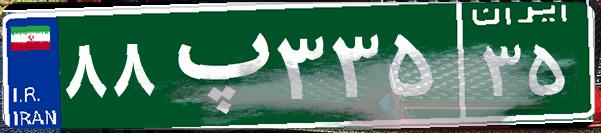3: (273, 28, 330, 110), (330, 28, 385, 110), (475, 38, 525, 113)
5: (385, 28, 445, 110), (525, 38, 570, 115)
8: (57, 26, 110, 107), (110, 28, 158, 105)
پ: (158, 15, 273, 115)
